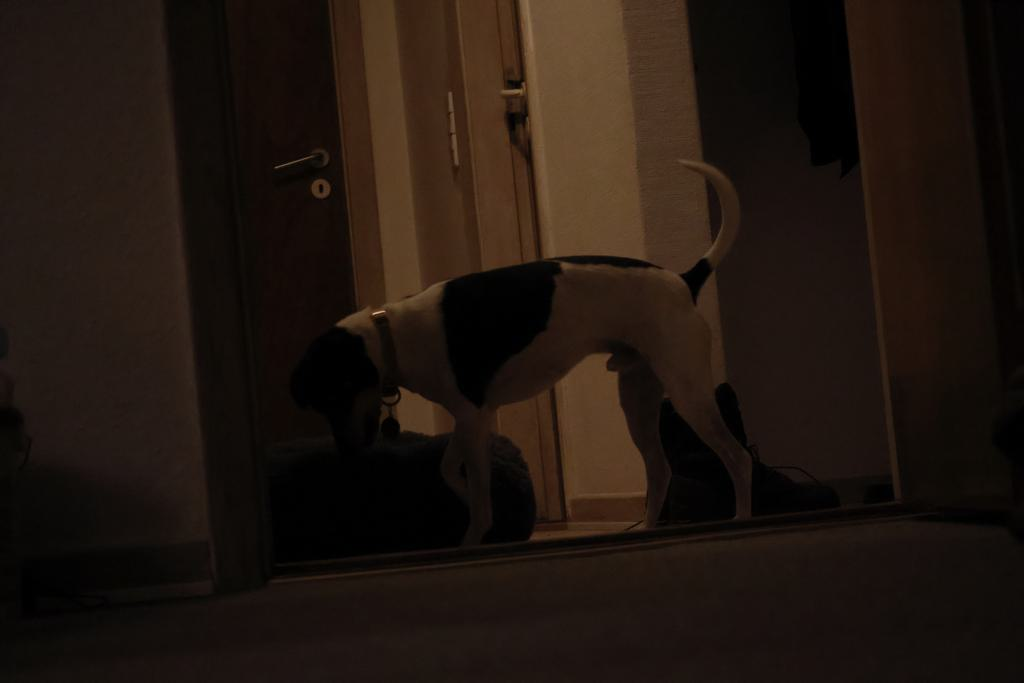Dog: (272, 152, 779, 559)
